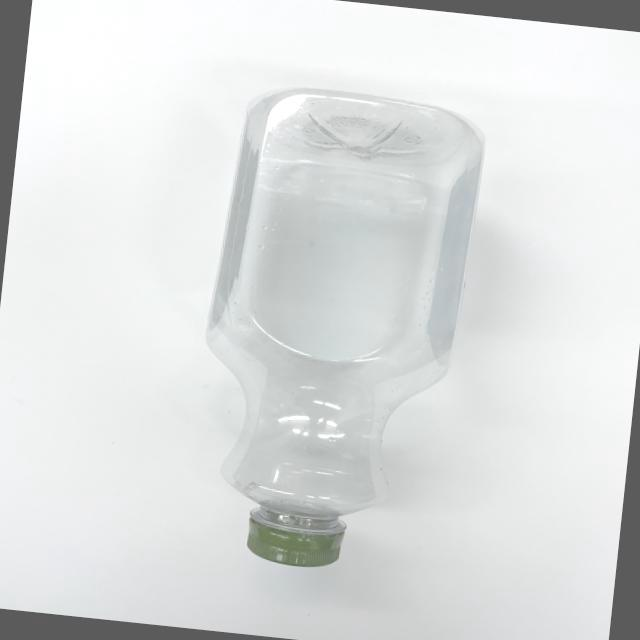plastic: (98, 57, 549, 615)
